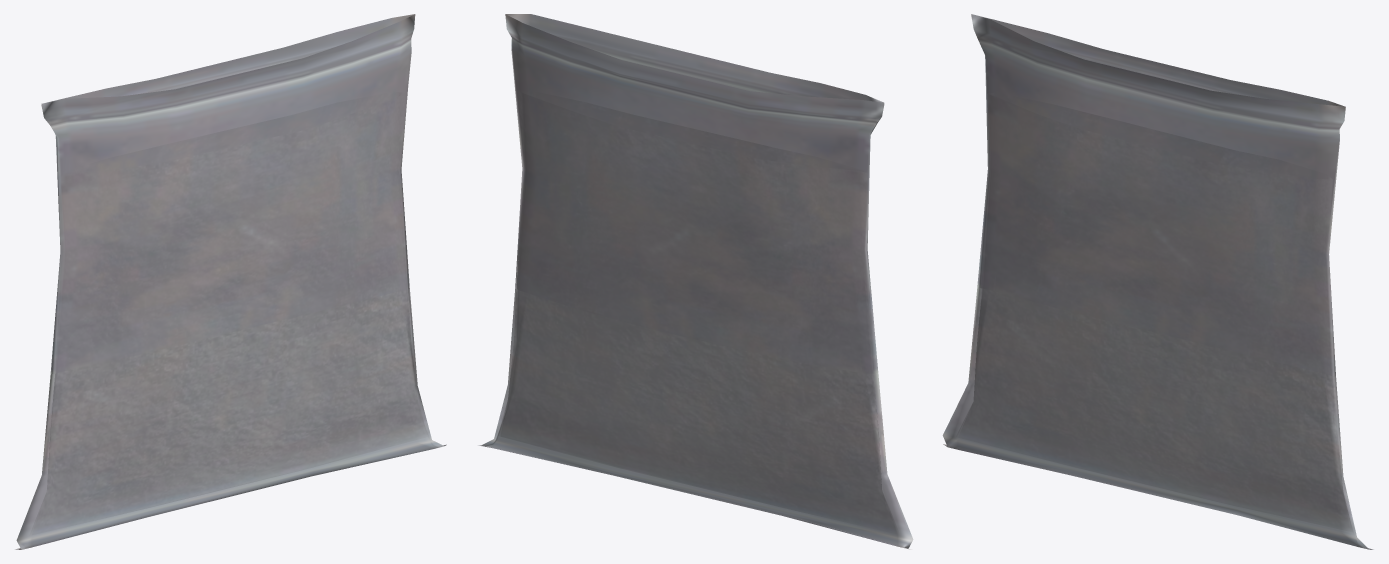
Rendered from plastic_bag.glb.
3 views of the same model, side by side, from view 1: azimuth 30°, elevation 25°; view 2: azimuth 150°, elevation 25°; view 3: azimuth 330°, elevation 25° (orthographic).
Parts seen in each view (by area): view 1: Coke Bag; view 2: Coke Bag; view 3: Coke Bag.
Part boxes in pixels (x1,y1,x2,y2): Coke Bag: (15, 14, 446, 549); Coke Bag: (478, 14, 913, 549); Coke Bag: (942, 14, 1373, 549).
Bounding box in the file's own units: 0.166 × 0.1611 × 0.014.
Materials: 2 (2 with a texture image).
